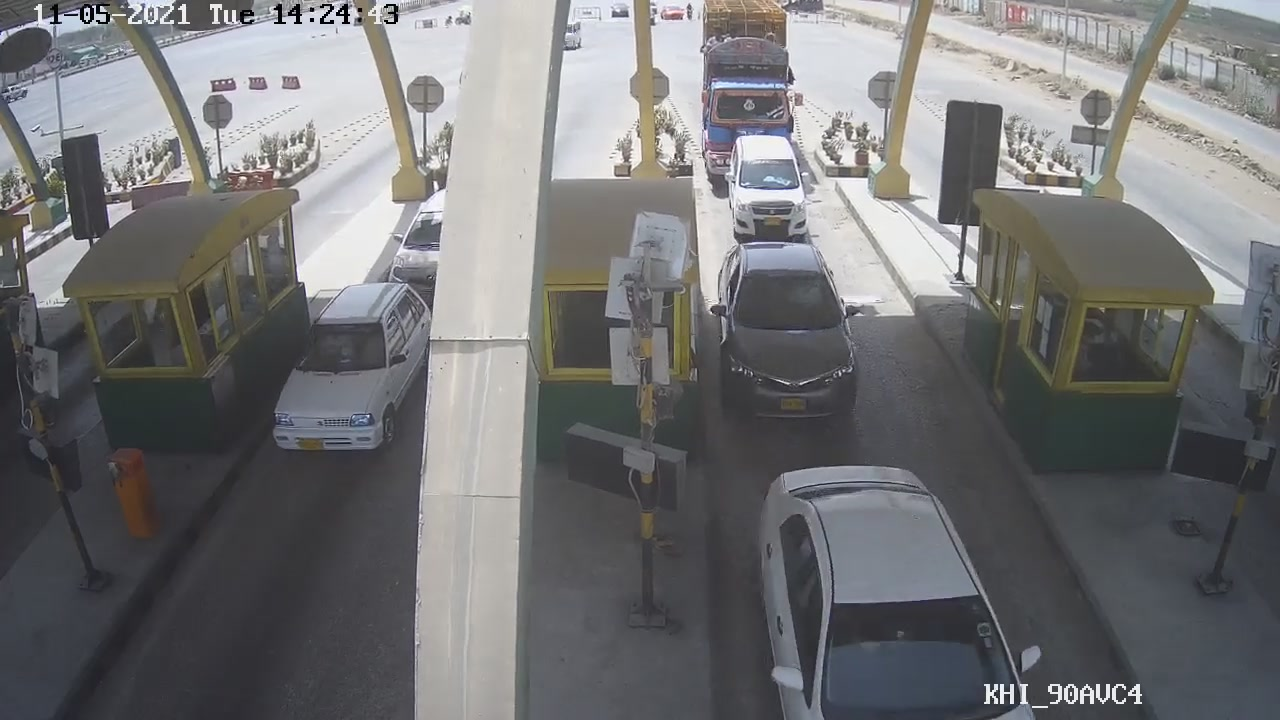F1: (700, 240, 861, 426)
